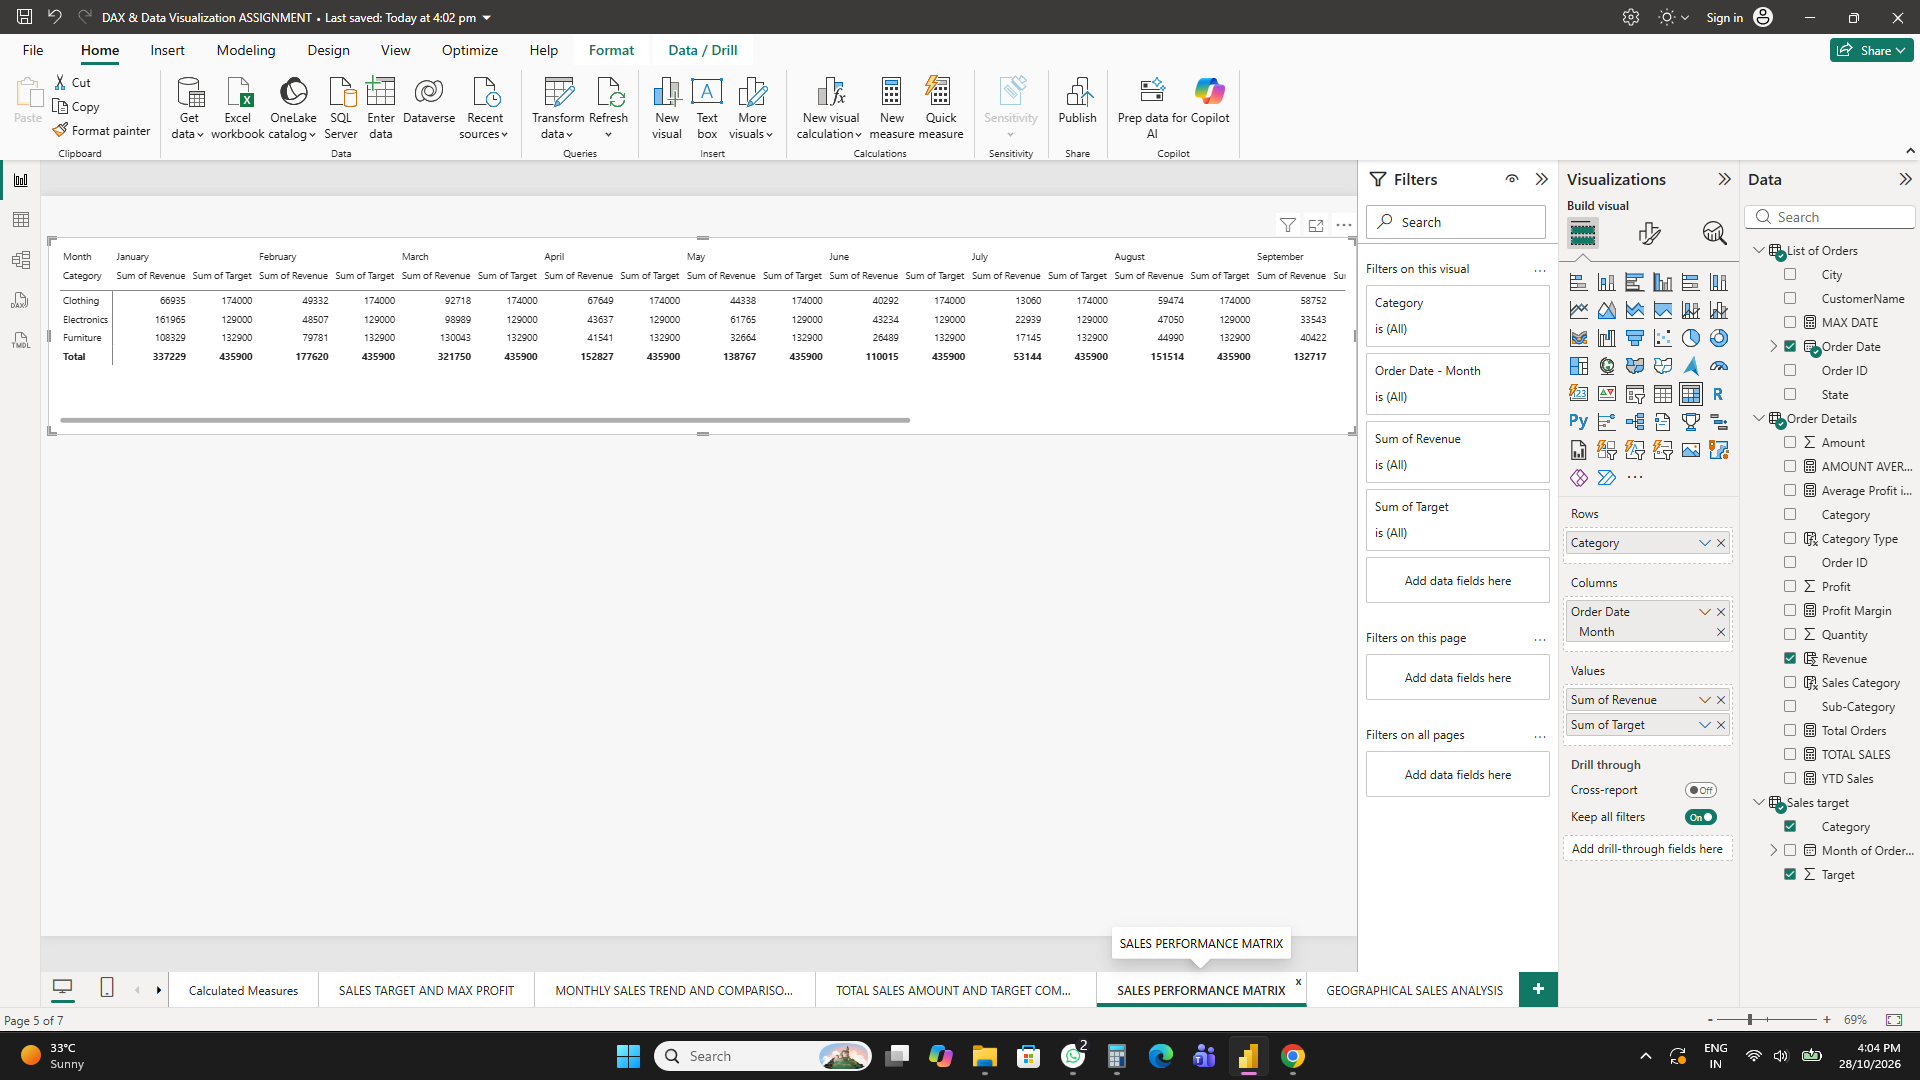

The page's visual inventory and layout, read from the dashboard file:
{"tool":"powerbi","page":{"name":"SALES PERFORMANCE MATRIX","canvas":[1920,1080],"ordinal":4},"visuals":[{"type":"pivotTable","fields":{"Columns":["List of Orders .Order Date.Variation.Date Hierarchy.Month"],"Rows":["Sales target .Category"],"Values":["Sum(Order Details .Revenue)","Sum(Sales target .Target)"]},"box":[10.2,59.8,1909.8,288.9],"z":0}]}

Visuals, with their boxes on the page's 1920x1080 design canvas (x1, y1, x2, y2). These are canvas units, not pixel positions in the 1920x1080 screenshot, which may show the page scaled, cropped or inside an application window:
pivotTable - List of Orders .Order Date.Variation.Date Hierarchy.Month x Sales target .Category: [x1=10, y1=60, x2=1920, y2=349]
